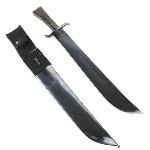Golok: (29, 0, 143, 118)
